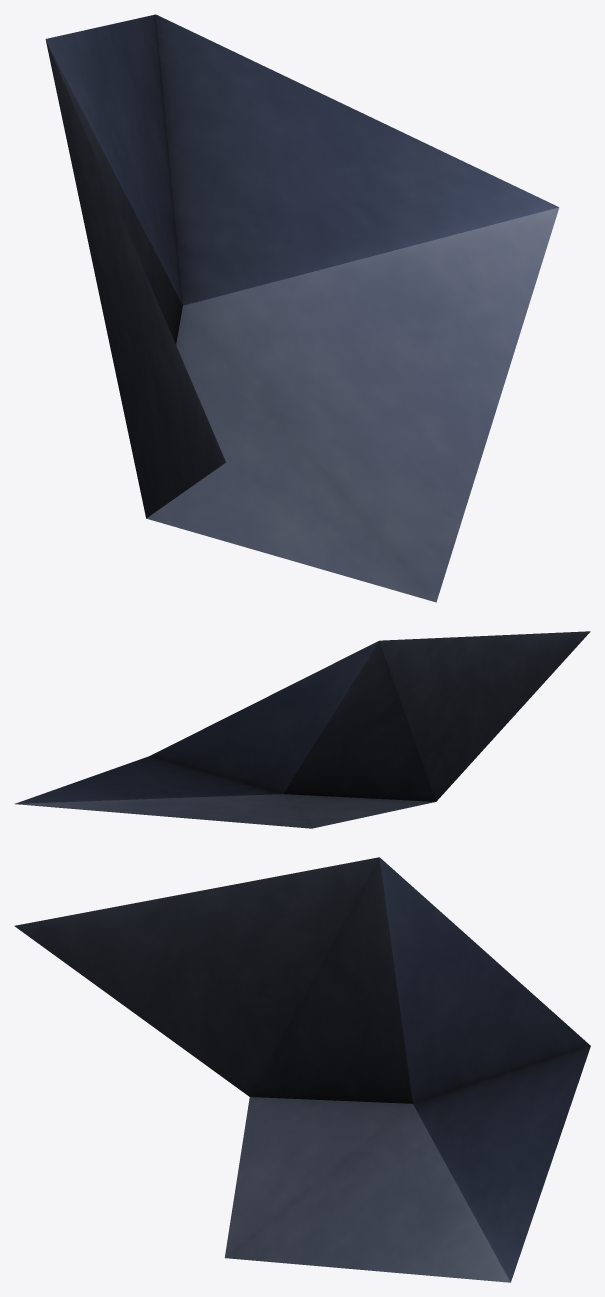
File: SM_Floor_Vert_C_A.fbx
3 views of the same model, one above another, from view 1: azimuth 30°, elevation 25°; view 2: azimuth 150°, elevation 25°; view 3: azimuth 270°, elevation 25° (orthographic). The views are drawn at different scales.
Parts seen in each view (by area): view 1: pCube187; view 2: pCube187; view 3: pCube187.
Boxes of the visible parts, x1=… form: pCube187: x1=45, y1=14, x2=559, y2=602; pCube187: x1=15, y1=631, x2=590, y2=828; pCube187: x1=14, y1=857, x2=590, y2=1282.
Bounding box in the file's own units: 0.5338 × 0.3663 × 0.5926.
